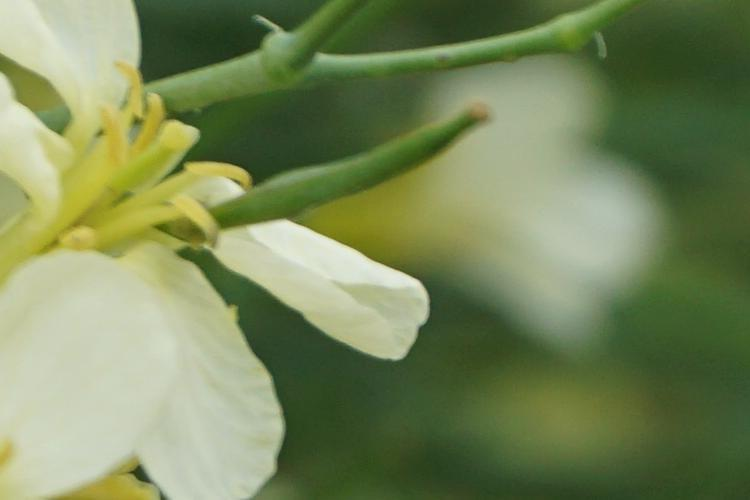pod: (221, 113, 513, 243)
